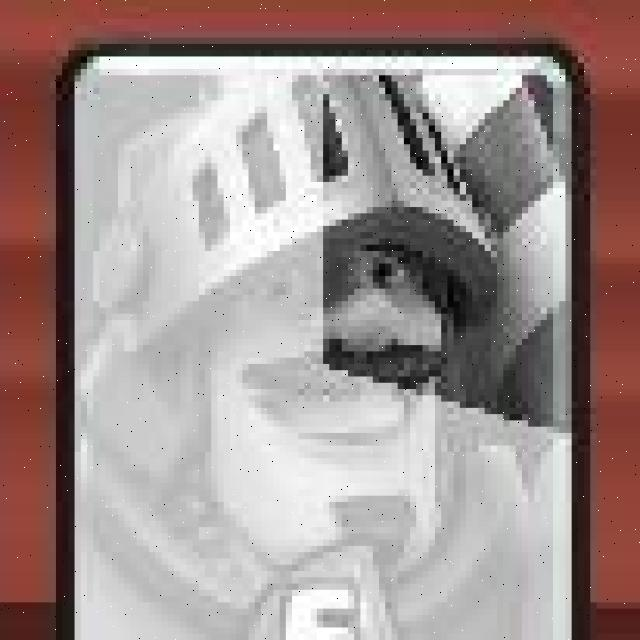Prince: (55, 39, 582, 640)
